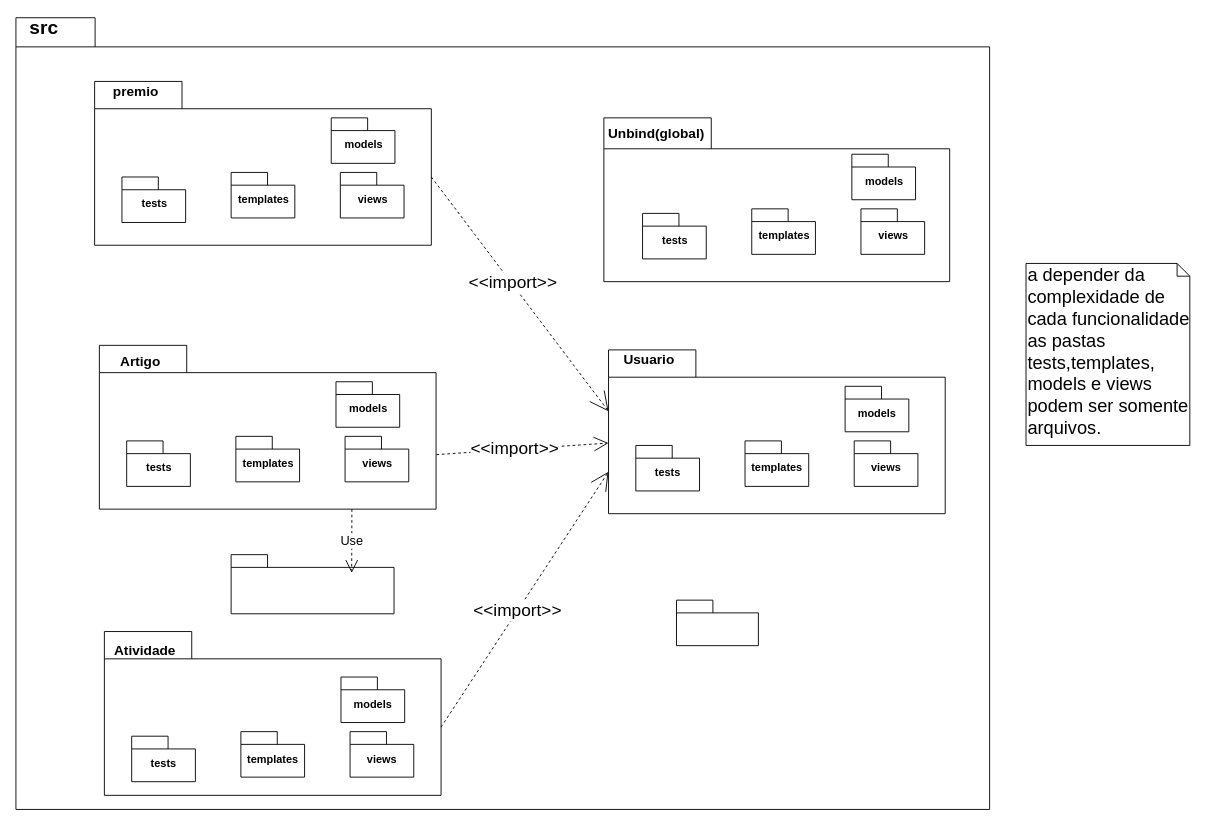
Image size: 1206x825. Some labels were removed from this diagram. The shapes that lost their labels are listed below. From the top down, each one's box as (x1, y1, x2, y2) in pixels, then its label:
(230, 554, 394, 614): Arquivos estáticos (Imagens, PDF, etc)
(676, 599, 758, 646): bootstrap
